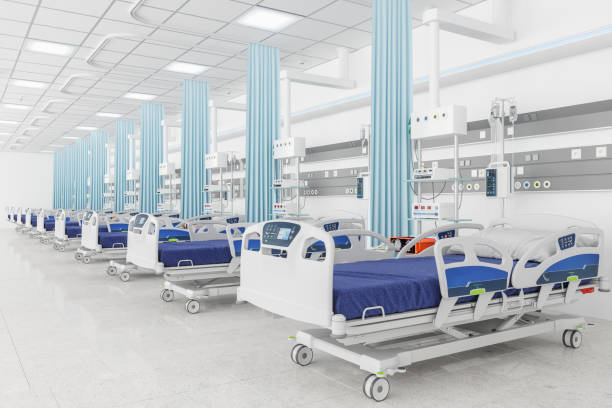bed: (125, 210, 604, 402), (5, 198, 125, 260)
